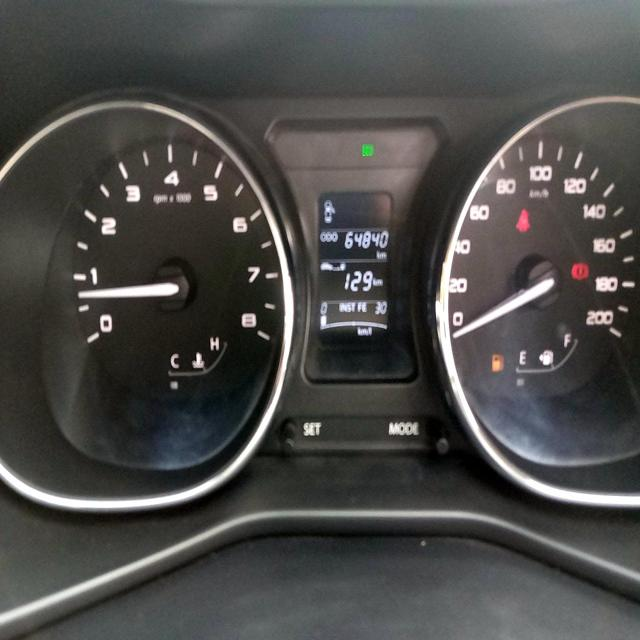odometer: (342, 224, 390, 251)
